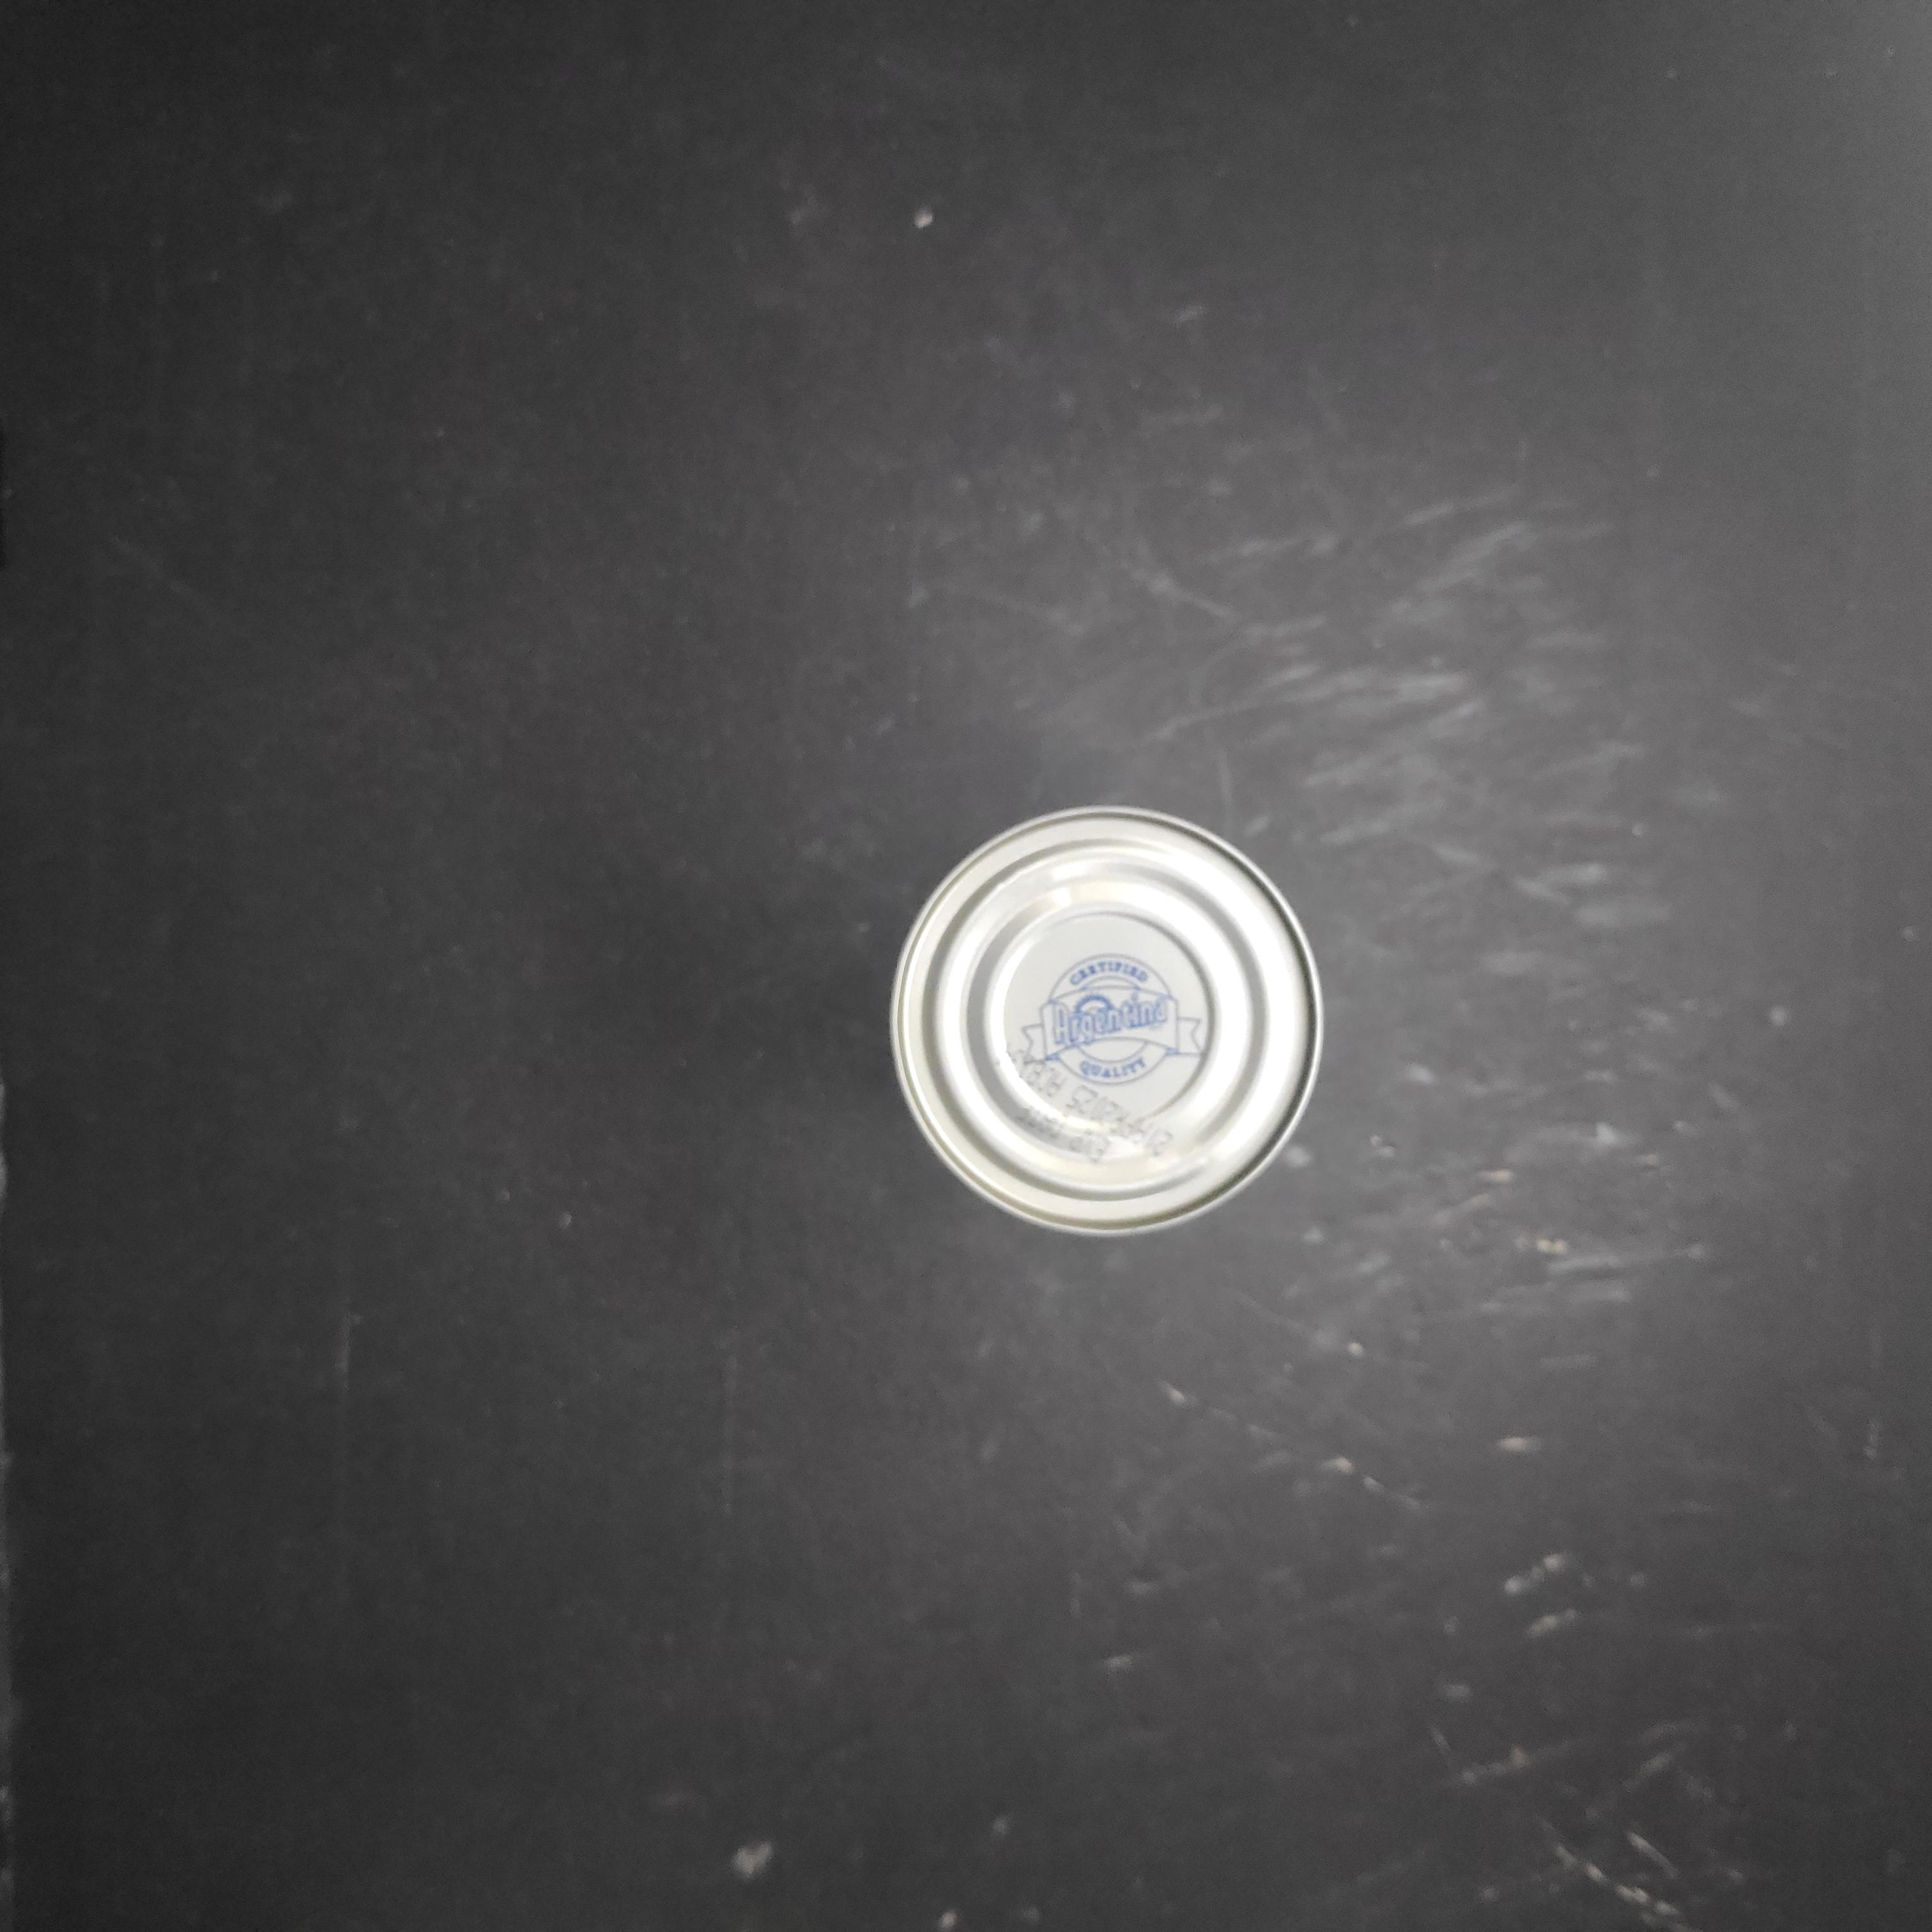No defect: (888, 805, 1325, 1237)
